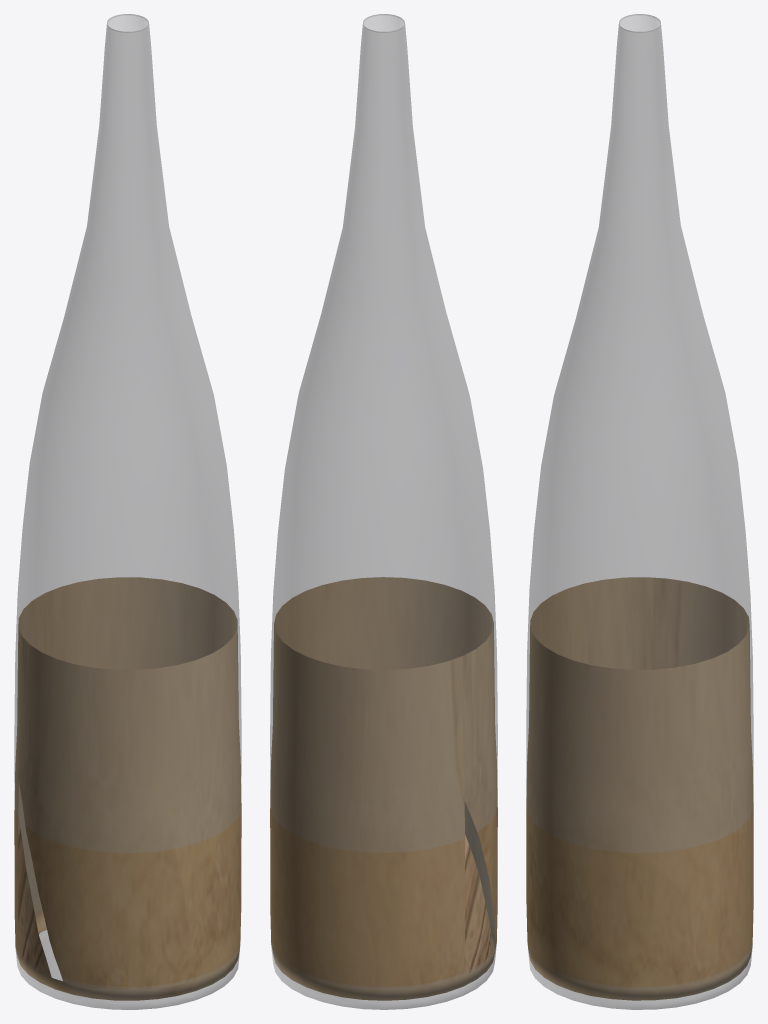
File: Bottle.fbx
3 renders of one model, left to right at view 1: azimuth 30°, elevation 25°; view 2: azimuth 150°, elevation 25°; view 3: azimuth 270°, elevation 25°, orthographic.
Parts seen in each view (by area): view 1: polySurface3; view 2: polySurface3; view 3: polySurface3.
Boxes of the visible parts, <box> form: polySurface3: <box>14,14,241,1009</box>; polySurface3: <box>270,14,497,1009</box>; polySurface3: <box>526,14,753,1009</box>.
Size of the model in its own units: 1.23 by 5.62 by 1.23.
